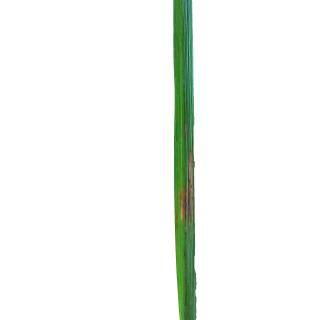Hawar-Daun: (187, 148, 194, 224), (180, 183, 190, 220), (181, 118, 190, 146)
